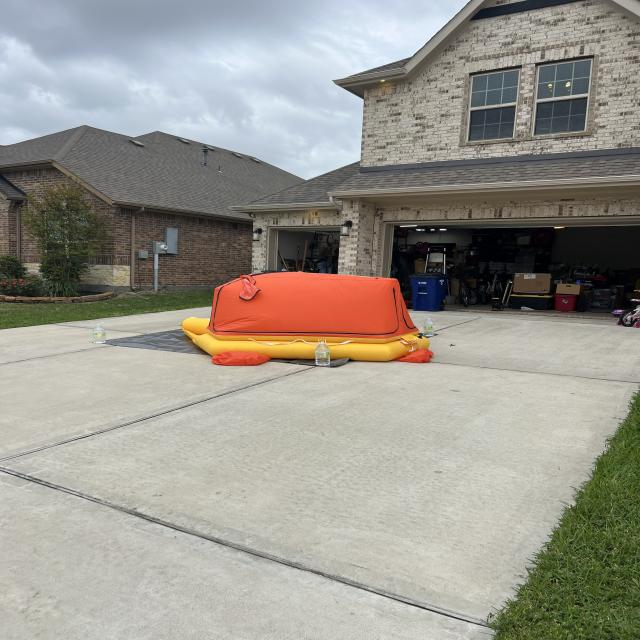Multi-person_life_raft: (180, 278, 433, 367)
